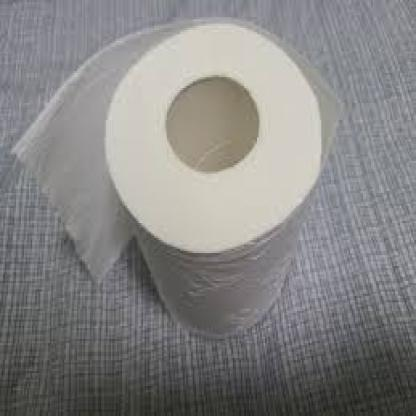tissue: (9, 9, 360, 361)
